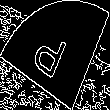P_SW: (34, 24, 76, 86)
